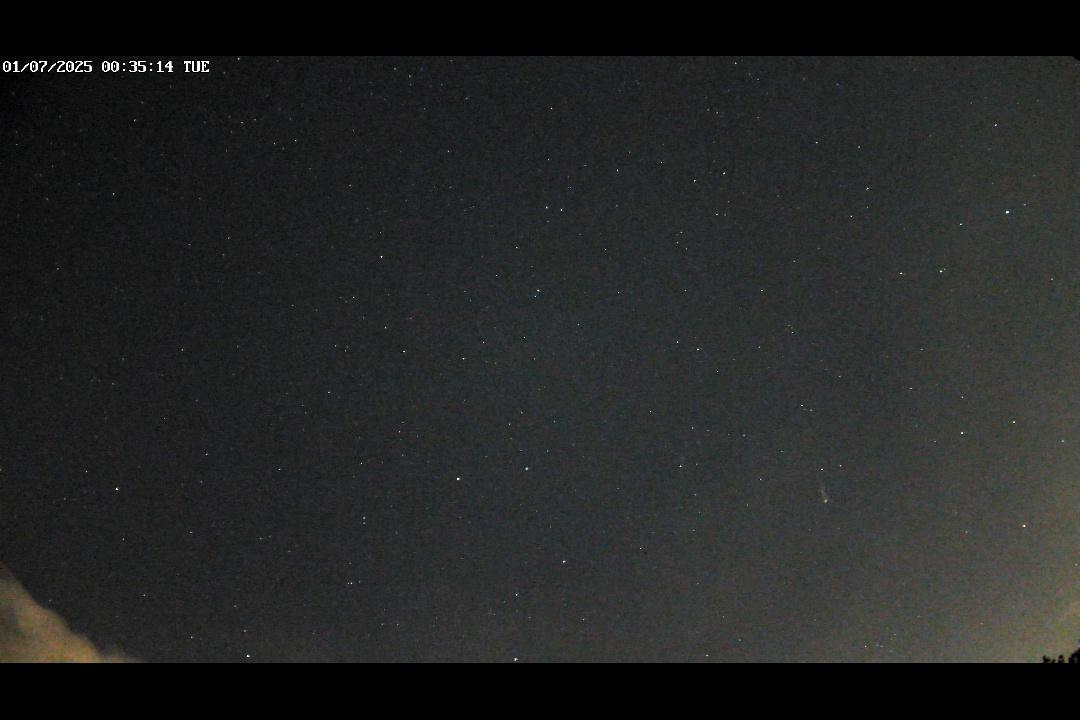Plane: (809, 474, 835, 511)
